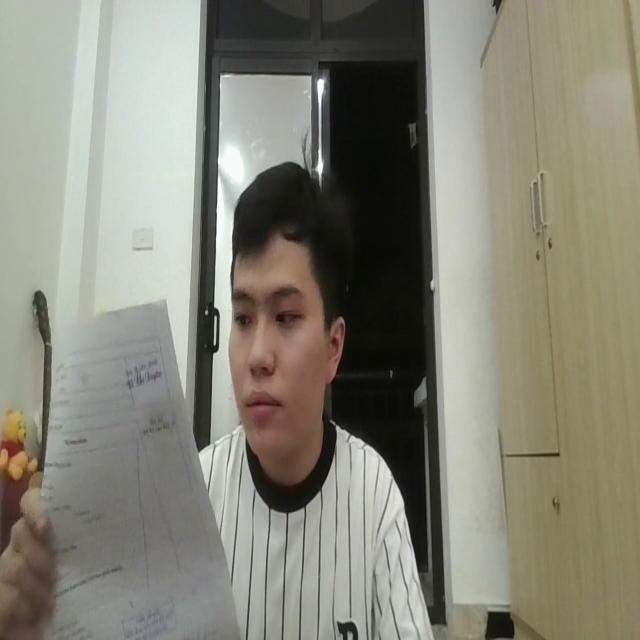book: (36, 295, 242, 640)
student: (189, 157, 432, 640)
